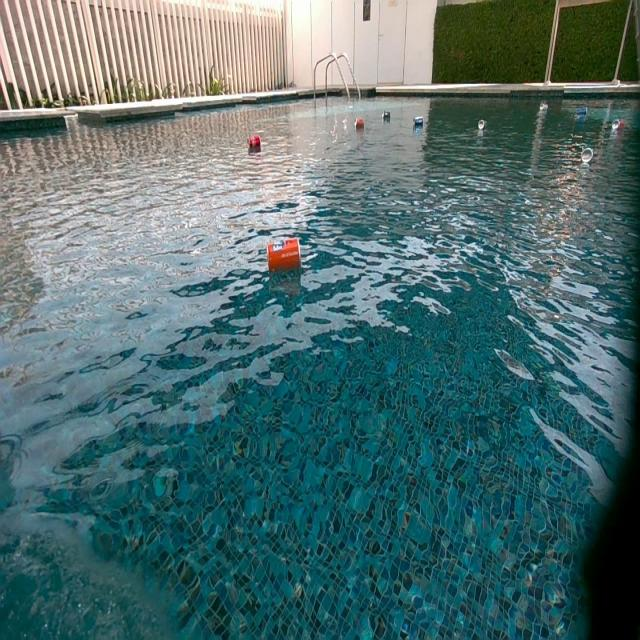Cans: (268, 239, 300, 275), (582, 146, 595, 163), (248, 136, 261, 152), (610, 119, 623, 131), (412, 115, 425, 127), (575, 107, 587, 118), (355, 116, 364, 129), (538, 101, 548, 112), (382, 109, 391, 121), (479, 118, 487, 129)
